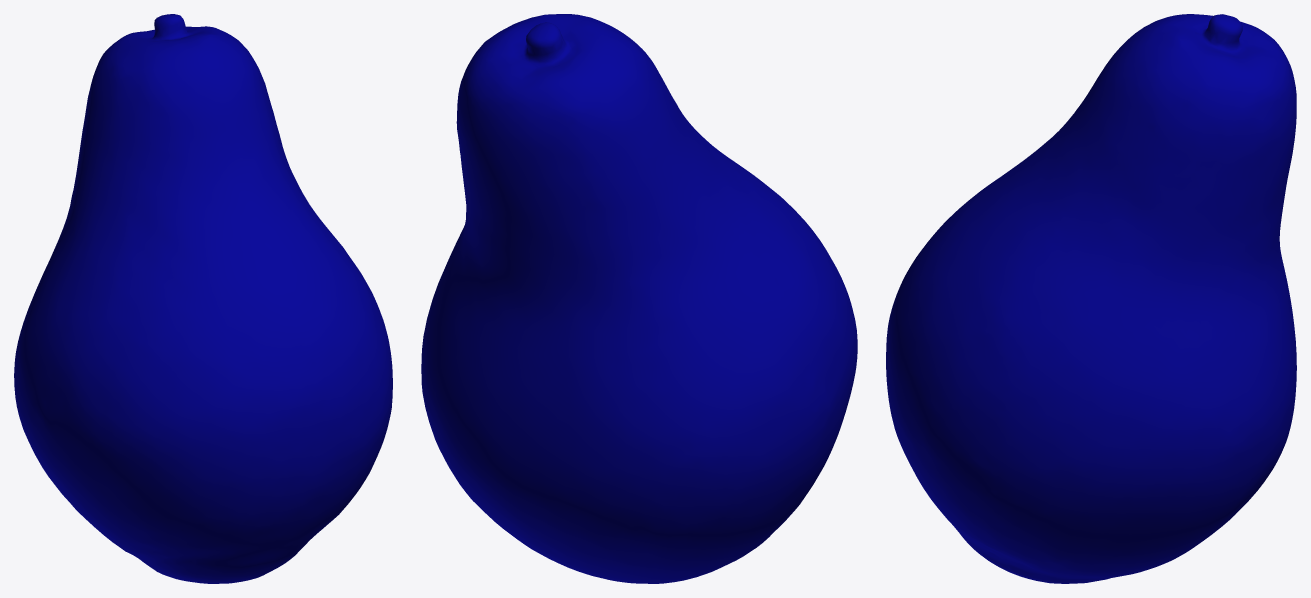
3 views of the same model, side by side, from view 1: azimuth 30°, elevation 25°; view 2: azimuth 150°, elevation 25°; view 3: azimuth 270°, elevation 25° (orthographic). The views are drawn at different scales.
Bounding box in the file's own units: 0.0665 × 0.1005 × 0.0657.
